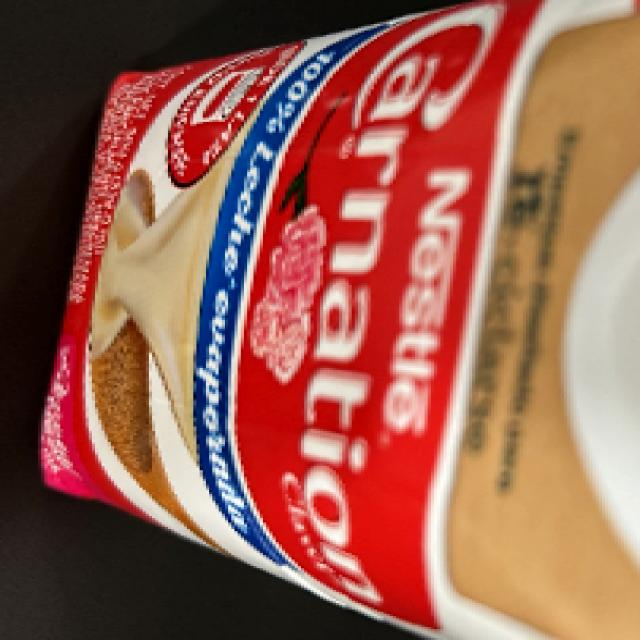nestleCarnation: (47, 29, 640, 590)
